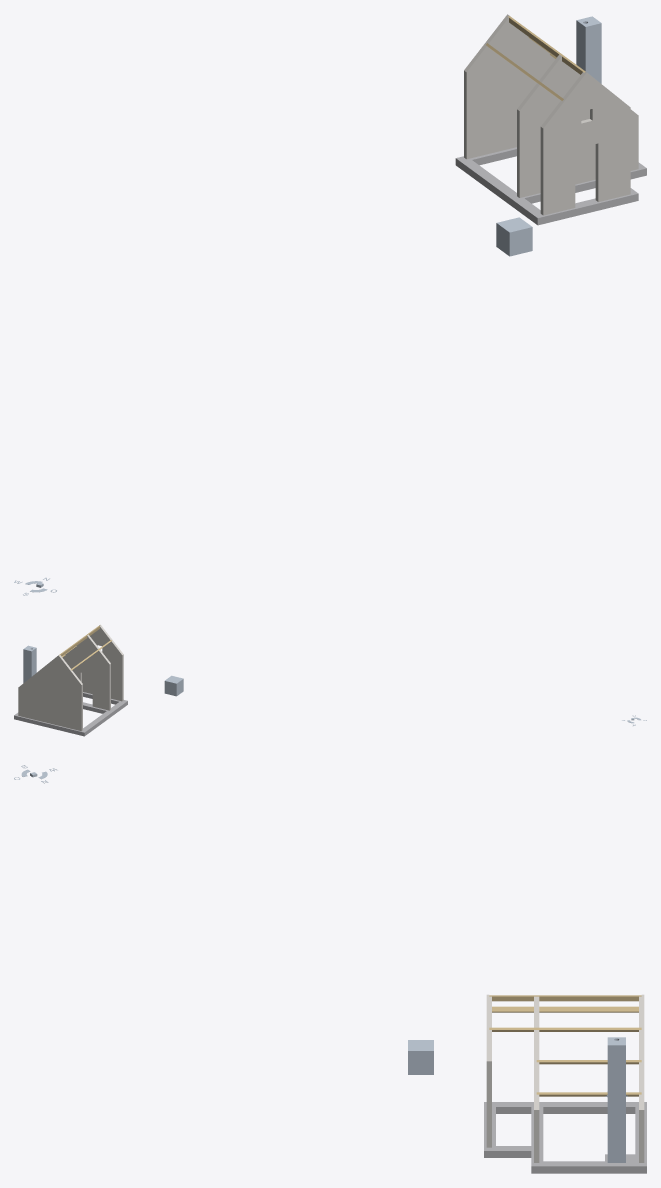
3 views of the same model, one above another, from view 1: azimuth 30°, elevation 25°; view 2: azimuth 150°, elevation 25°; view 3: azimuth 270°, elevation 25° (orthographic). The views are drawn at different scales.
Visible parts, largest first — view 1: 3SGBcf7Lv0r80vKtUCgOpf, 0DyViLJJ175RvWQi1rE7a6, 37GxndZsXCwBzM0QrdRDLo, 0pFmhV8oD1dB40_b4pscr8, 3Fbgsvr8nAYfGs9y5keub0, 2F44QMqSH3TOkM$SZoqCBe; view 2: 0DyViLJJ175RvWQi1rE7a6, 37GxndZsXCwBzM0QrdRDLo, 3SGBcf7Lv0r80vKtUCgOpf, 0pFmhV8oD1dB40_b4pscr8, 3Fbgsvr8nAYfGs9y5keub0, 2F44QMqSH3TOkM$SZoqCBe; view 3: 0pFmhV8oD1dB40_b4pscr8, 3Fbgsvr8nAYfGs9y5keub0, 2ddLgAnQf4mBfh5IpUp54U, 0DyViLJJ175RvWQi1rE7a6, 2fjJuPht9EIQaZQYZfC1Op, 3SGBcf7Lv0r80vKtUCgOpf, 2F44QMqSH3TOkM$SZoqCBe, 0rh7bRO0L9fg1NzgGKU$Ut, 3oNJ9yHi5FJuFnK8yg68Yt.
Part boxes in pixels (x1,y1,x2,y2): 3SGBcf7Lv0r80vKtUCgOpf: [540, 71, 630, 215]; 0DyViLJJ175RvWQi1rE7a6: [464, 14, 555, 159]; 37GxndZsXCwBzM0QrdRDLo: [517, 54, 595, 197]; 0pFmhV8oD1dB40_b4pscr8: [455, 147, 646, 225]; 3Fbgsvr8nAYfGs9y5keub0: [576, 16, 601, 83]; 2F44QMqSH3TOkM$SZoqCBe: [496, 217, 532, 256]; 0DyViLJJ175RvWQi1rE7a6: [18, 655, 82, 731]; 37GxndZsXCwBzM0QrdRDLo: [62, 634, 110, 710]; 3SGBcf7Lv0r80vKtUCgOpf: [82, 624, 123, 701]; 0pFmhV8oD1dB40_b4pscr8: [14, 692, 127, 736]; 3Fbgsvr8nAYfGs9y5keub0: [23, 645, 36, 682]; 2F44QMqSH3TOkM$SZoqCBe: [164, 675, 183, 696]; 0pFmhV8oD1dB40_b4pscr8: [484, 1102, 646, 1173]; 3Fbgsvr8nAYfGs9y5keub0: [607, 1037, 625, 1162]; 2ddLgAnQf4mBfh5IpUp54U: [489, 995, 641, 1001]; 0DyViLJJ175RvWQi1rE7a6: [639, 994, 644, 1162]; 2fjJuPht9EIQaZQYZfC1Op: [492, 1006, 638, 1012]; 3SGBcf7Lv0r80vKtUCgOpf: [486, 994, 491, 1147]; 2F44QMqSH3TOkM$SZoqCBe: [408, 1040, 433, 1074]; 0rh7bRO0L9fg1NzgGKU$Ut: [489, 1027, 641, 1031]; 3oNJ9yHi5FJuFnK8yg68Yt: [534, 1064, 539, 1162].
Bounding box in the file's own units: 38.34 × 6.58 × 24.09.
